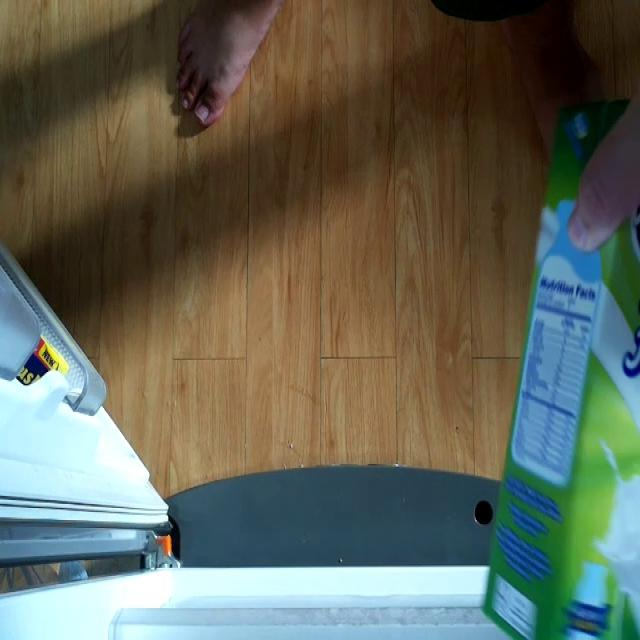milk: (480, 82, 640, 640)
